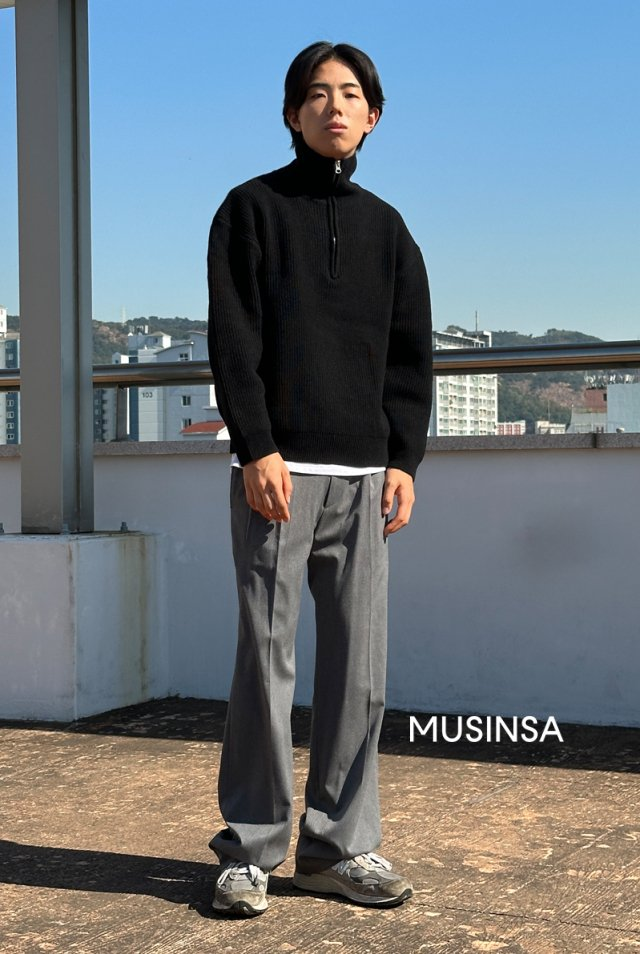Pants: (216, 452, 396, 870)
Shoes: (205, 846, 422, 921)
Top: (206, 142, 438, 480)
